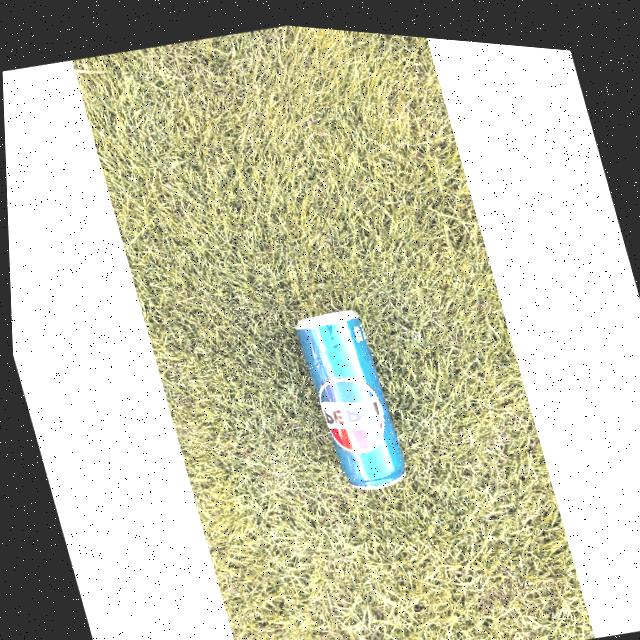Pepsi: (284, 289, 408, 491)
